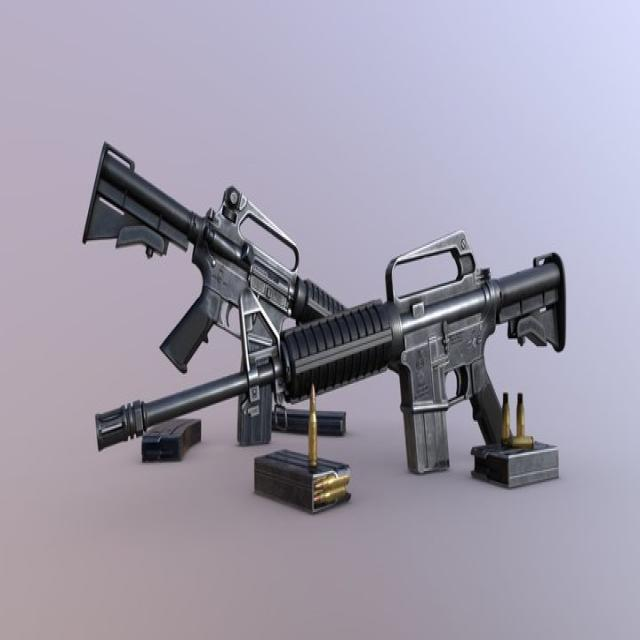Rifle: (94, 232, 567, 476), (82, 144, 345, 373)
